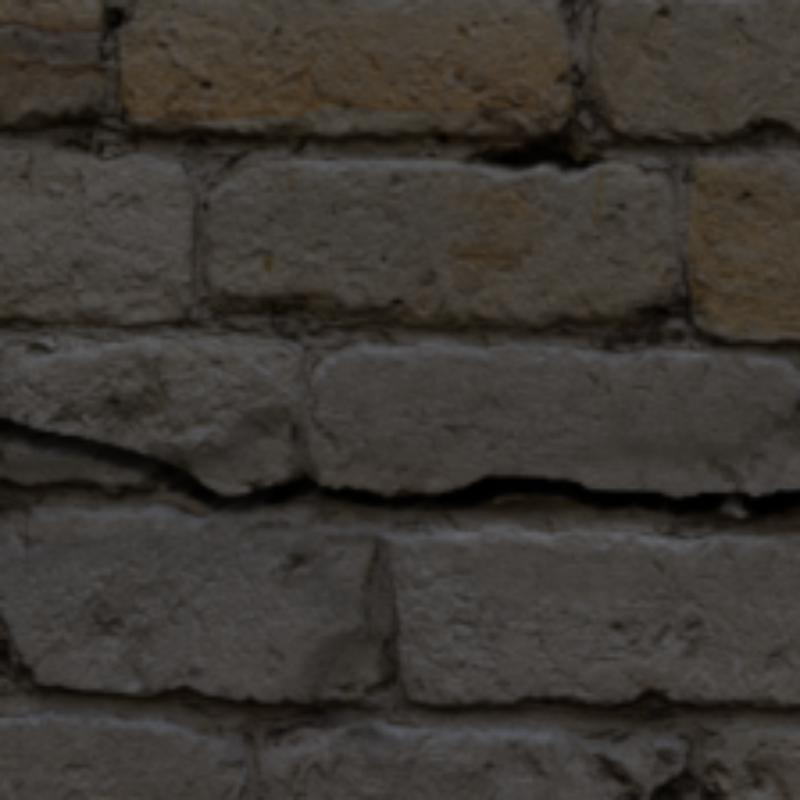pothole: (0, 418, 796, 514), (468, 129, 596, 171)
